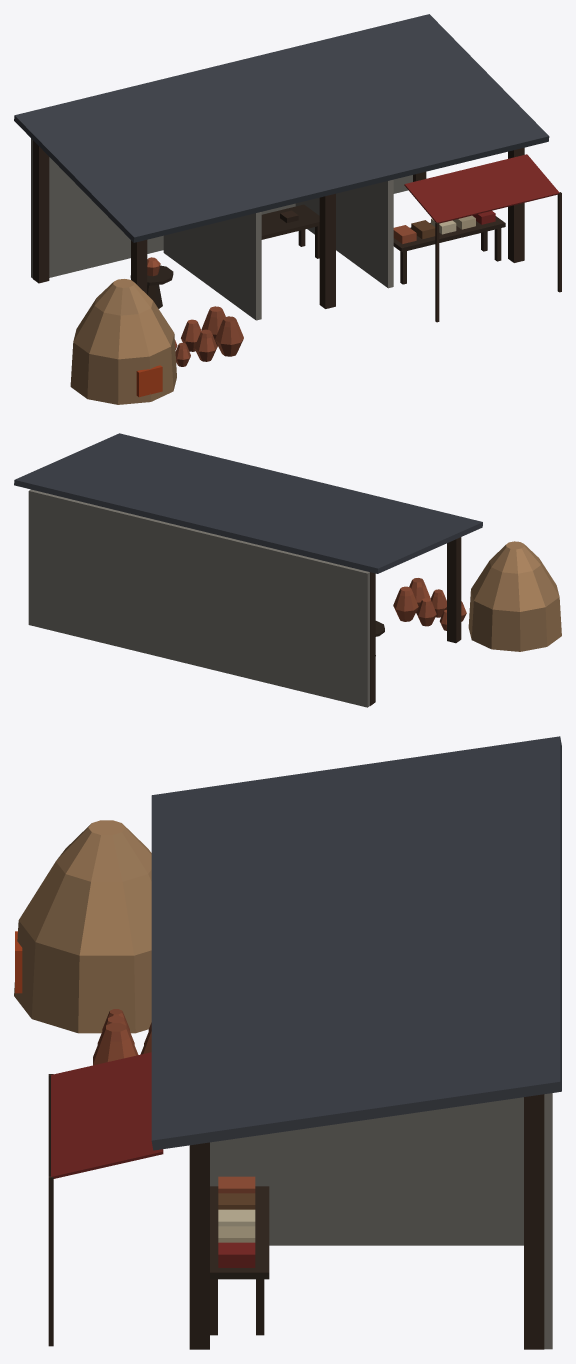
Rendered from walk_freehold_artisan.glb.
3 renders of one model, top to bottom at view 1: azimuth 30°, elevation 25°; view 2: azimuth 150°, elevation 25°; view 3: azimuth 270°, elevation 25°, orthographic. The views are drawn at different scales.
Parts seen in each view (by area): view 1: walk_freehold_artisan_roof, walk_freehold_artisan; view 2: walk_freehold_artisan, walk_freehold_artisan_roof; view 3: walk_freehold_artisan_roof, walk_freehold_artisan.
Part boxes in pixels (bbox=[...]): walk_freehold_artisan_roof: bbox=[14, 14, 549, 242]; walk_freehold_artisan: bbox=[31, 138, 561, 404]; walk_freehold_artisan: bbox=[28, 489, 561, 707]; walk_freehold_artisan_roof: bbox=[14, 433, 482, 573]; walk_freehold_artisan_roof: bbox=[151, 736, 561, 1150]; walk_freehold_artisan: bbox=[14, 820, 552, 1349].
Size of what is drawn, in the model's own units: 10.25 by 3.32 by 5.9.
Materials: 2 (2 with a texture image).
